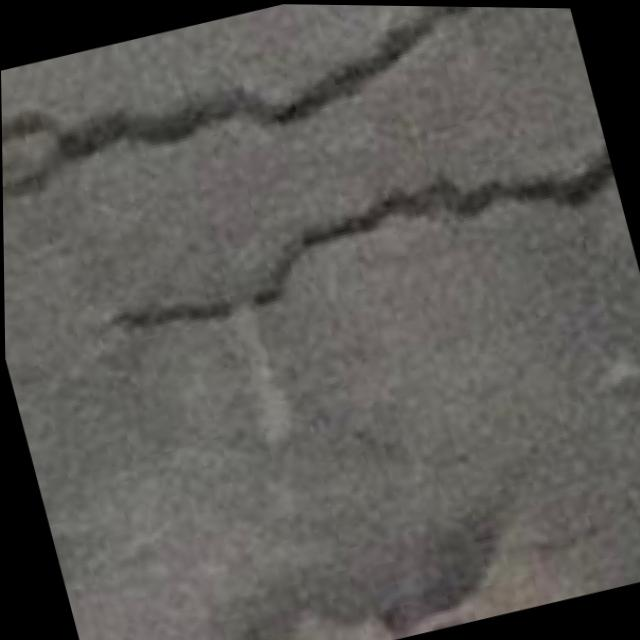Crack: (0, 0, 582, 230), (87, 137, 618, 362)
